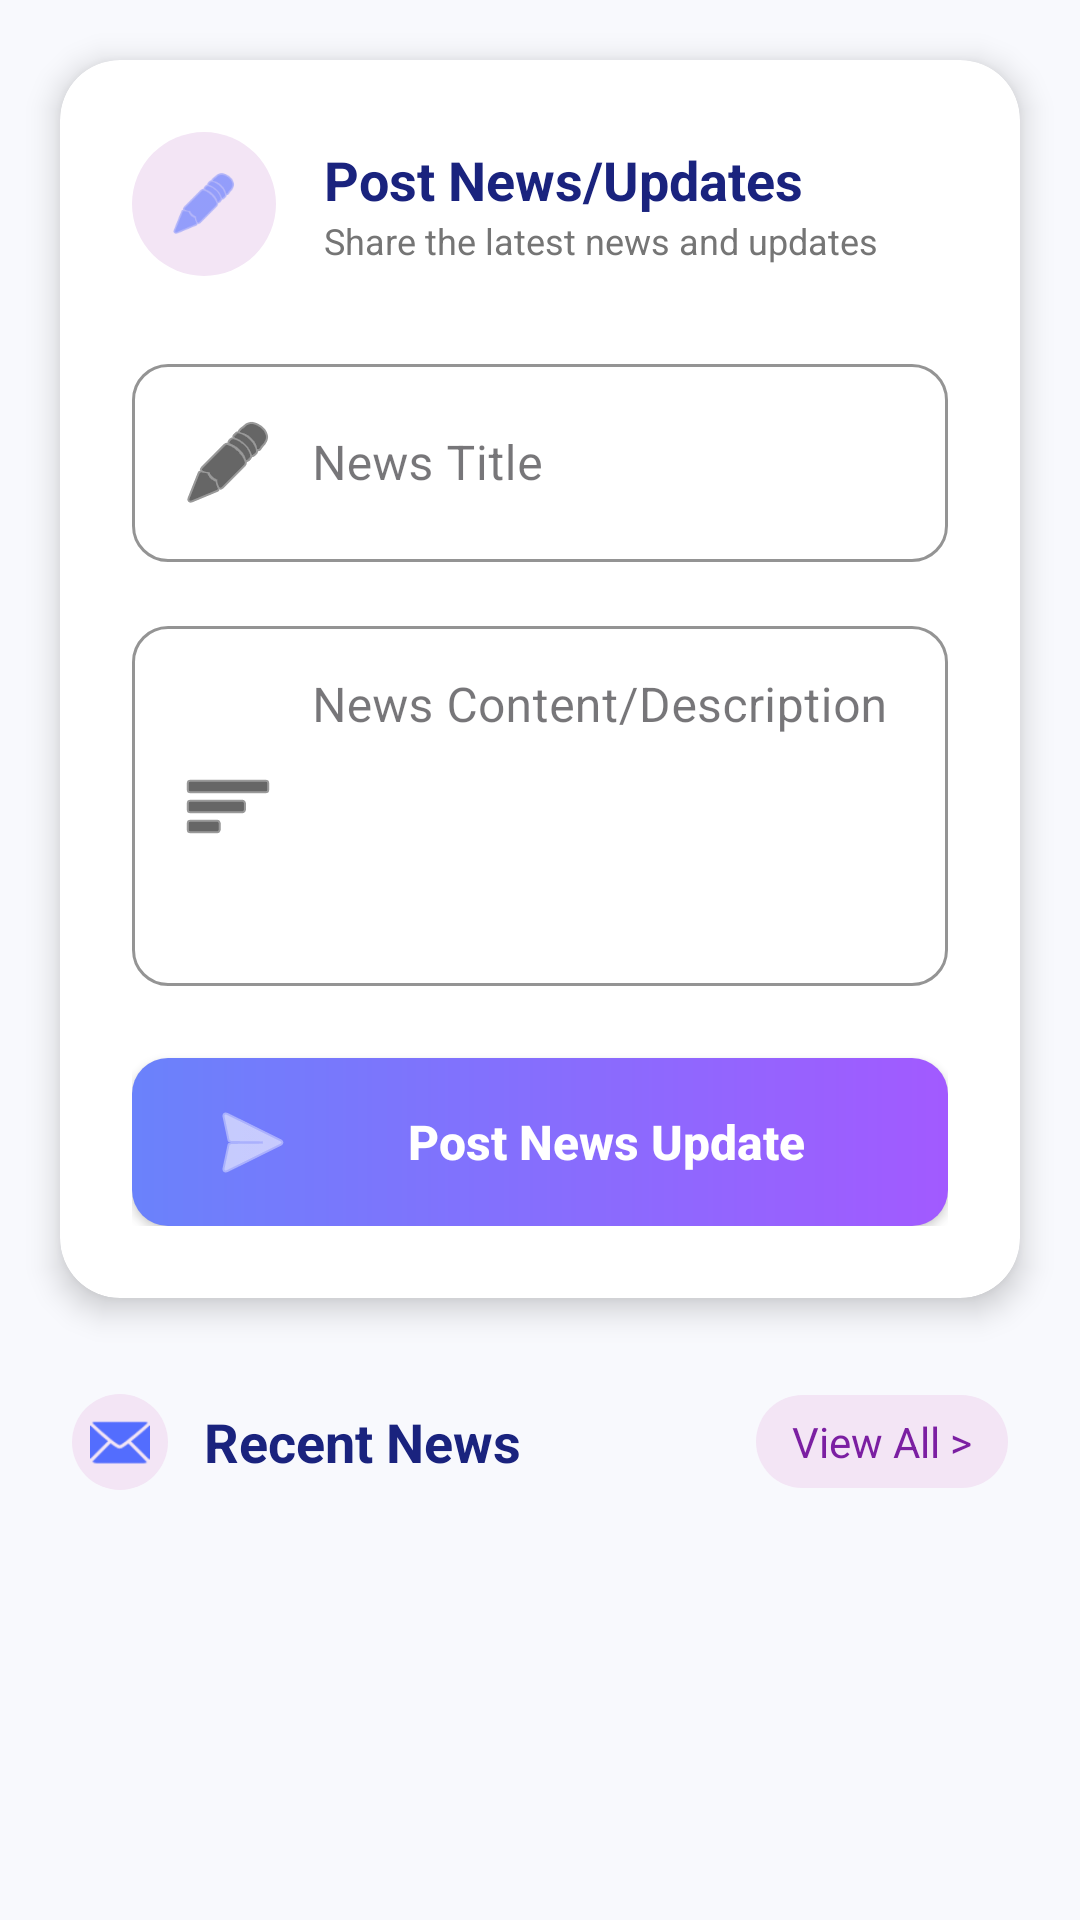

Where icons sit on this 1080*1920 app screen, as (x1, y1, x2, y2):
edit: (132, 132, 276, 276)
email: (90, 1421, 150, 1464)
